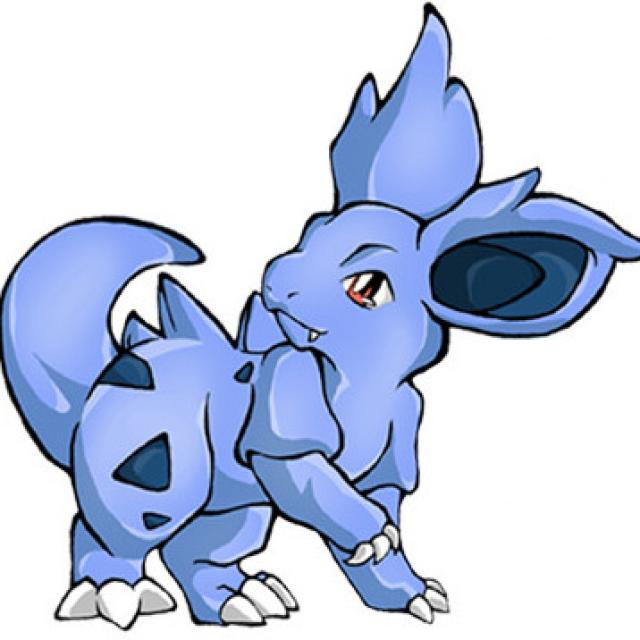Nidorina: (0, 148, 620, 620)
